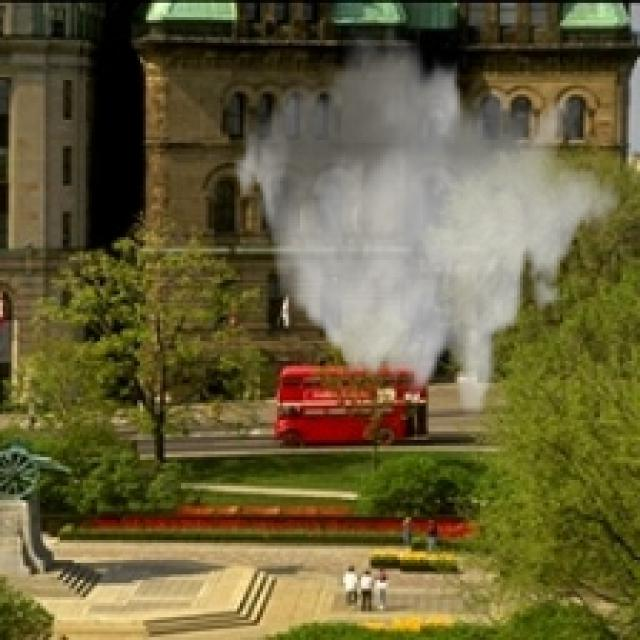smoke: (231, 20, 623, 423)
